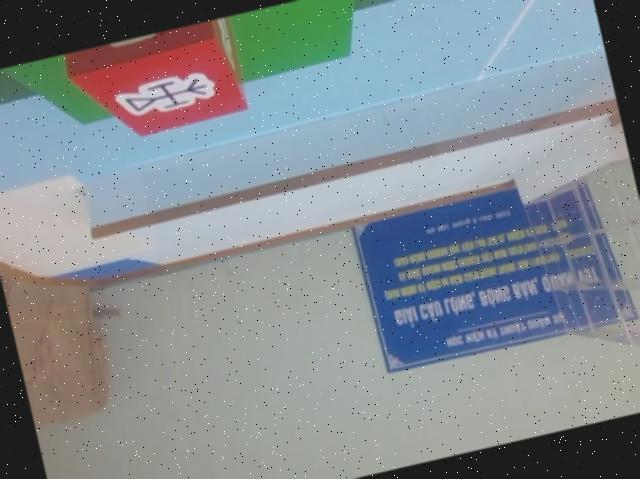R2 Real: (61, 15, 250, 151)
